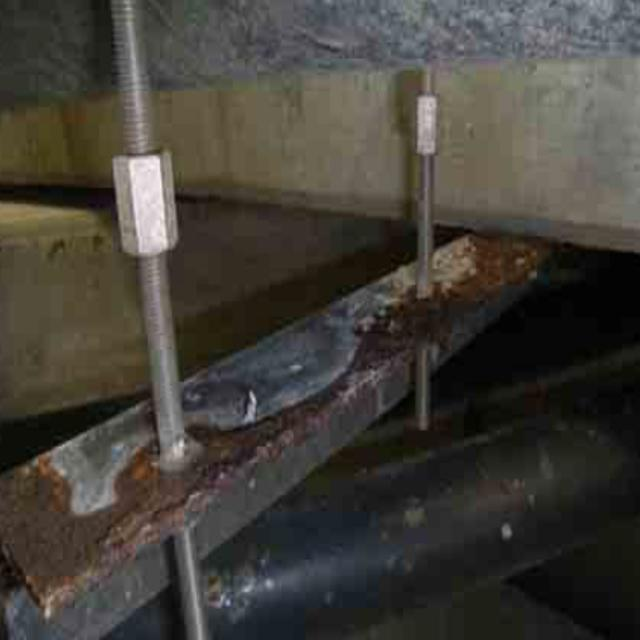corrosion: (9, 396, 330, 606), (453, 209, 558, 317)
